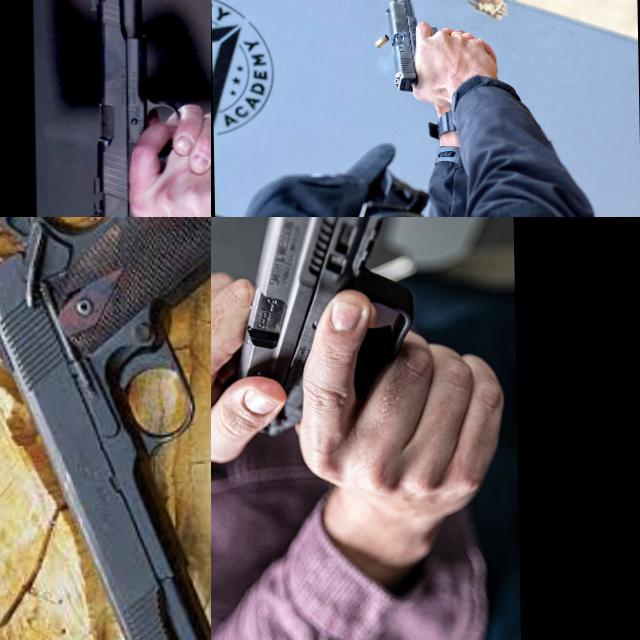handgun: (0, 217, 211, 640), (225, 217, 420, 445), (81, 0, 185, 217), (383, 0, 440, 93)
